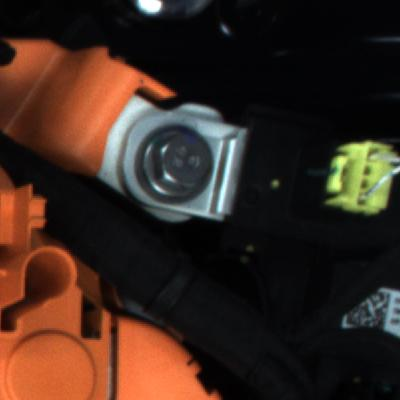nut_b: (125, 121, 218, 207)
